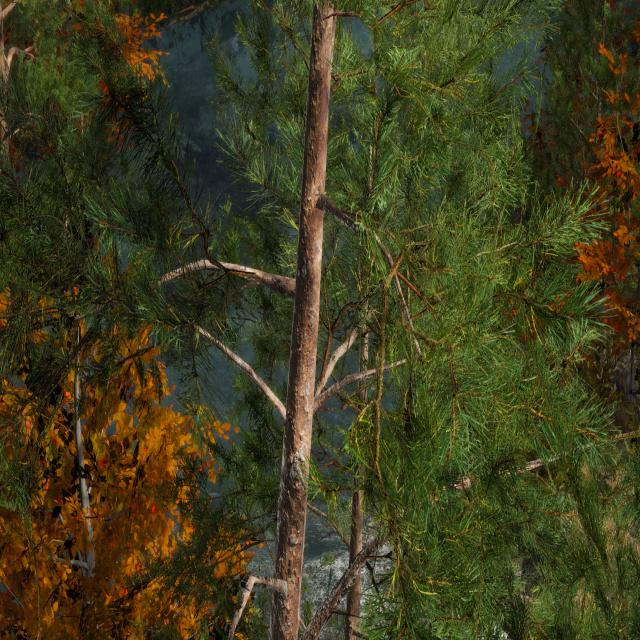Human: (266, 204, 300, 334)
